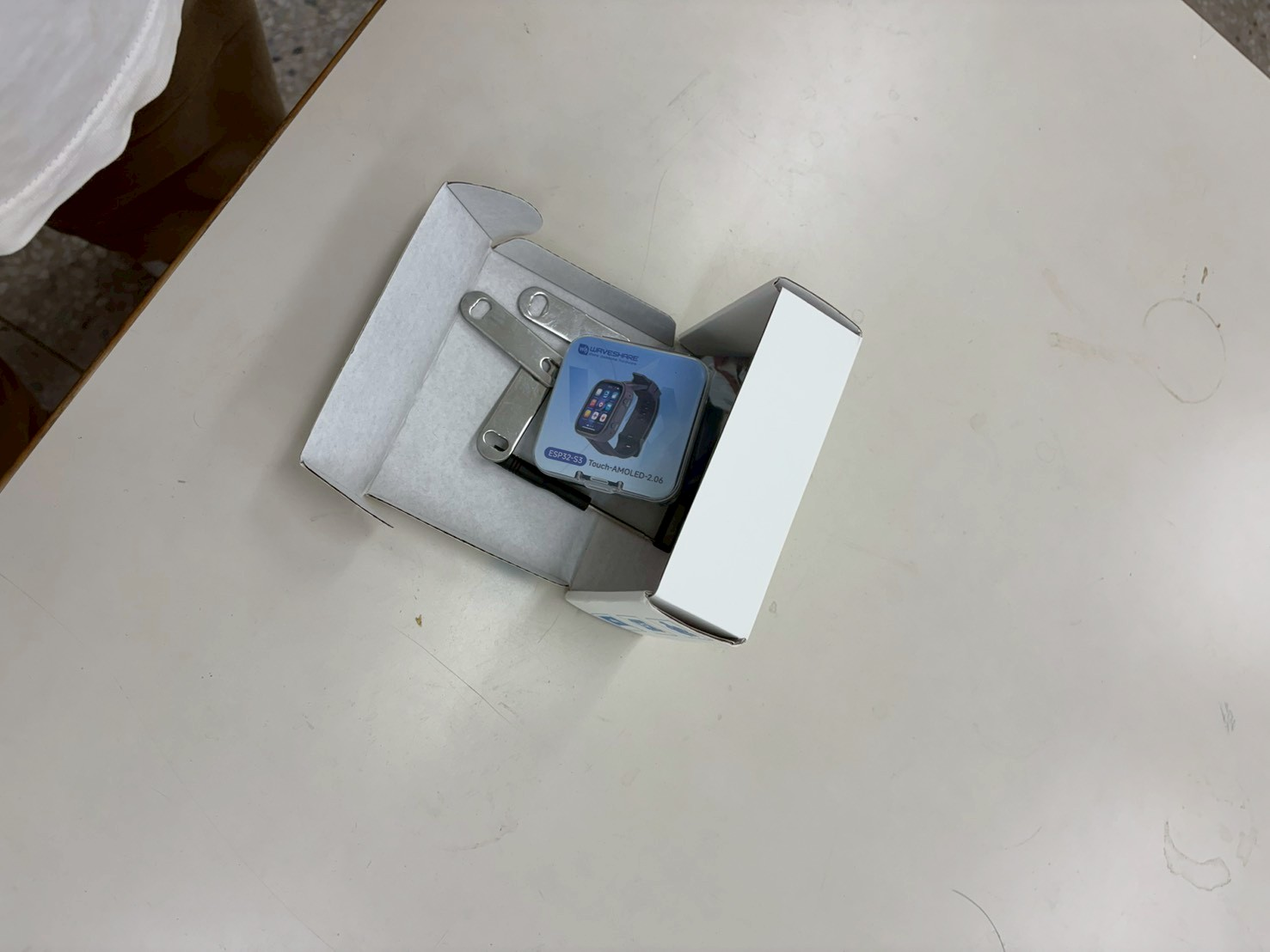Fe: (508, 310, 557, 443), (533, 336, 581, 469), (447, 311, 495, 444)
